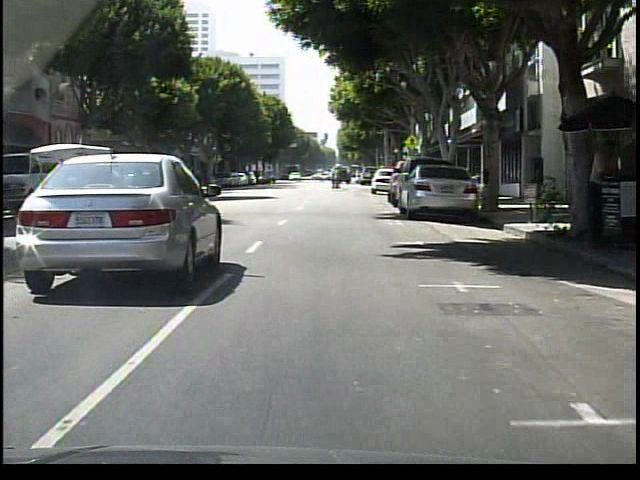person: (582, 138, 623, 240), (327, 168, 344, 192)
